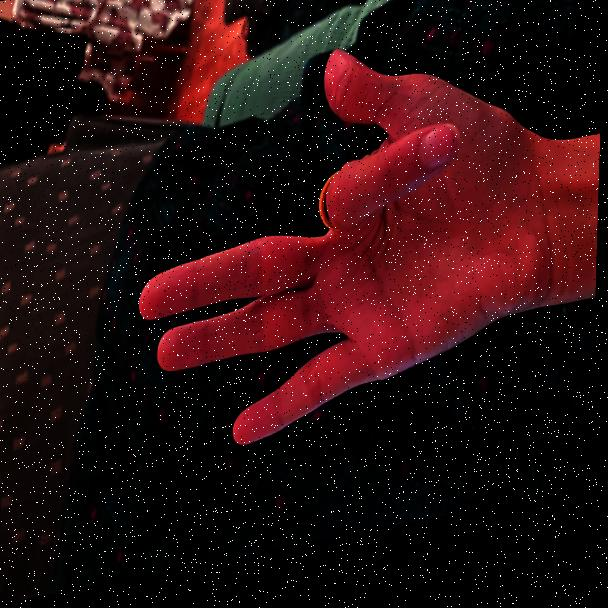five: (133, 16, 576, 488)
